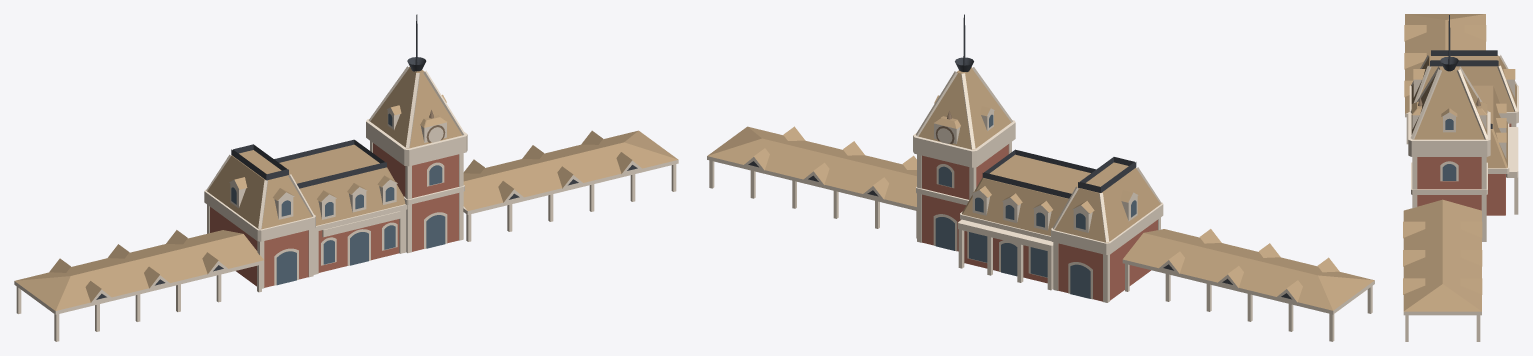
File: dlr-main-street-station.glb
The picture shows the model from 3 angles, left to right: view 1: azimuth 30°, elevation 25°; view 2: azimuth 150°, elevation 25°; view 3: azimuth 270°, elevation 25°; orthographic projection. The views are drawn at different scales.
Visible parts, largest first — view 1: Main Street, U.S.A. Station (Disneyland); view 2: Main Street, U.S.A. Station (Disneyland); view 3: Main Street, U.S.A. Station (Disneyland).
Part boxes in pixels (x1,y1,x2,y2): Main Street, U.S.A. Station (Disneyland): (14, 14, 678, 341); Main Street, U.S.A. Station (Disneyland): (707, 14, 1374, 341); Main Street, U.S.A. Station (Disneyland): (1403, 14, 1518, 341).
Size of the model in its own units: 52.2 by 17.5 by 8.59.
